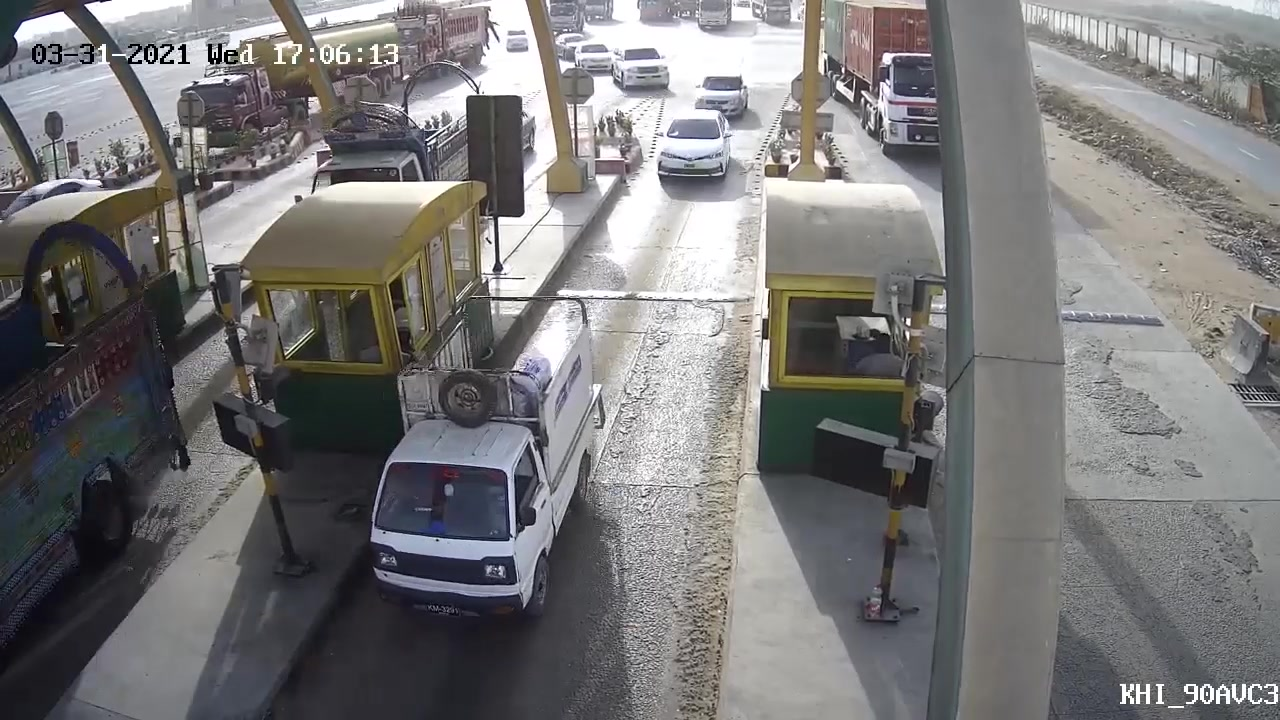F1: (339, 283, 621, 636), (652, 108, 732, 188)
